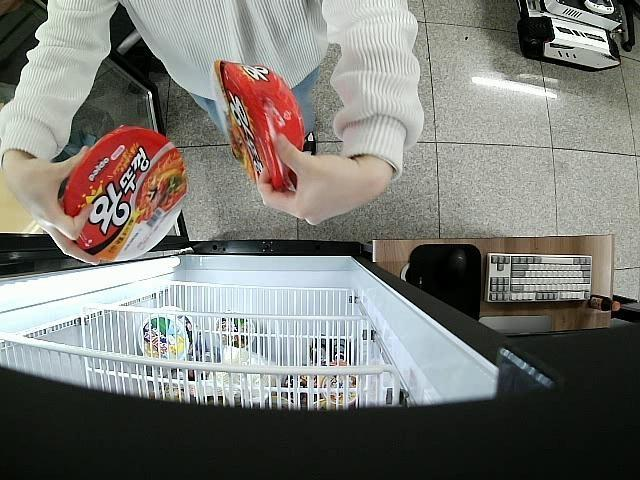10_wangTtukkeong: (58, 128, 189, 261), (208, 58, 304, 192)
